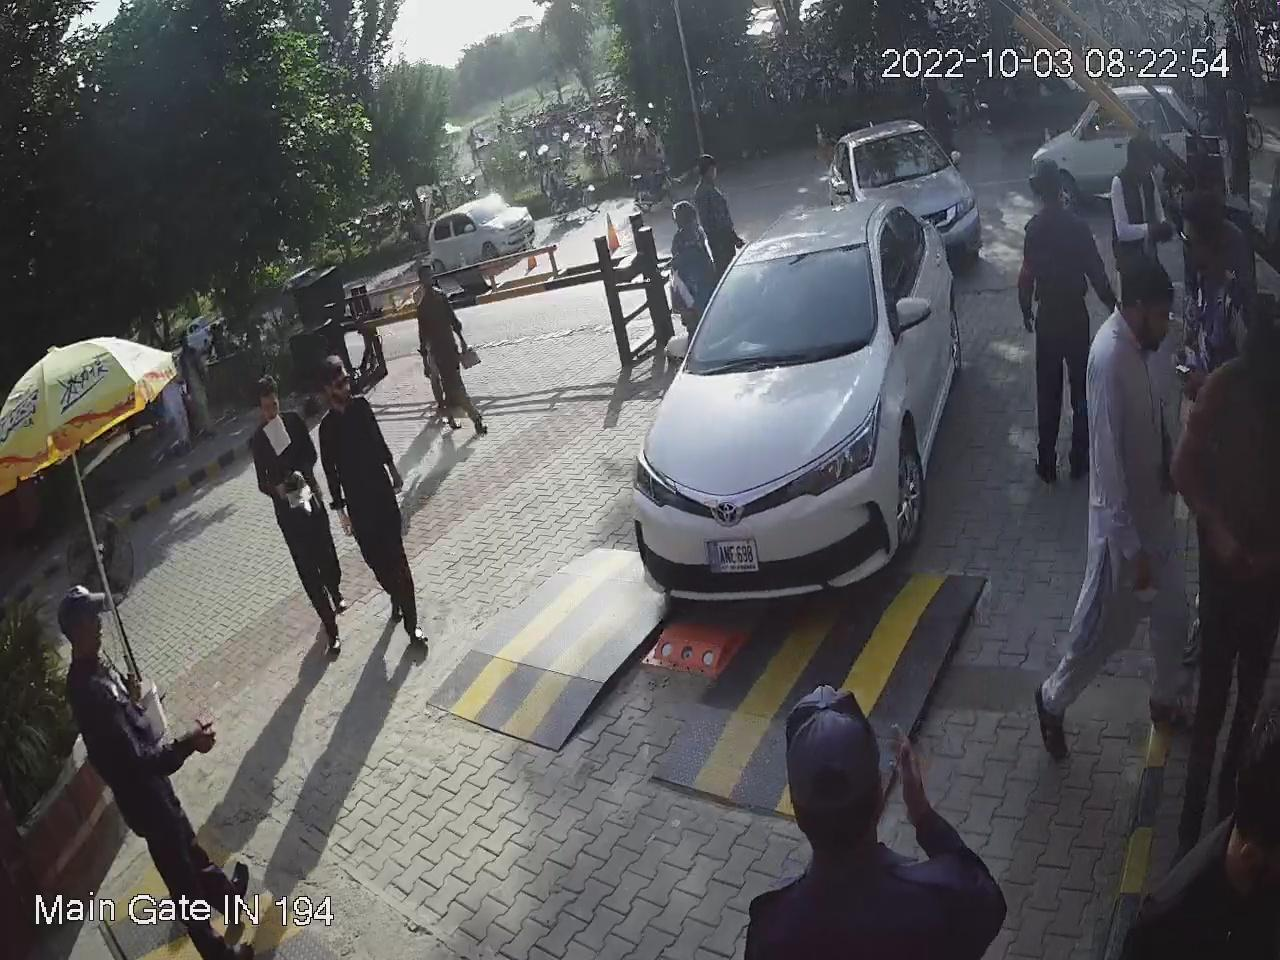windshield: (675, 238, 883, 370)
